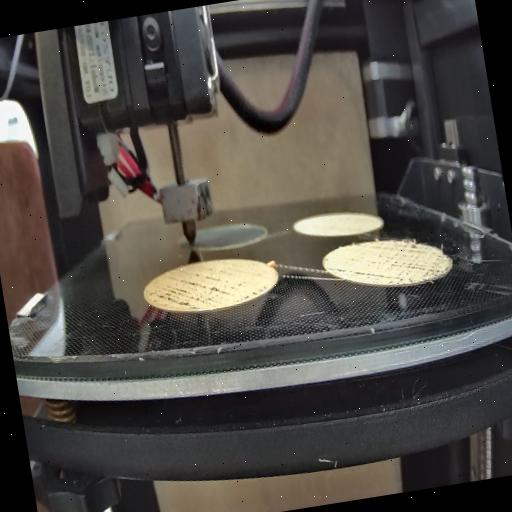under_extrusion: (144, 262, 268, 312), (385, 232, 447, 289), (326, 254, 388, 286)
